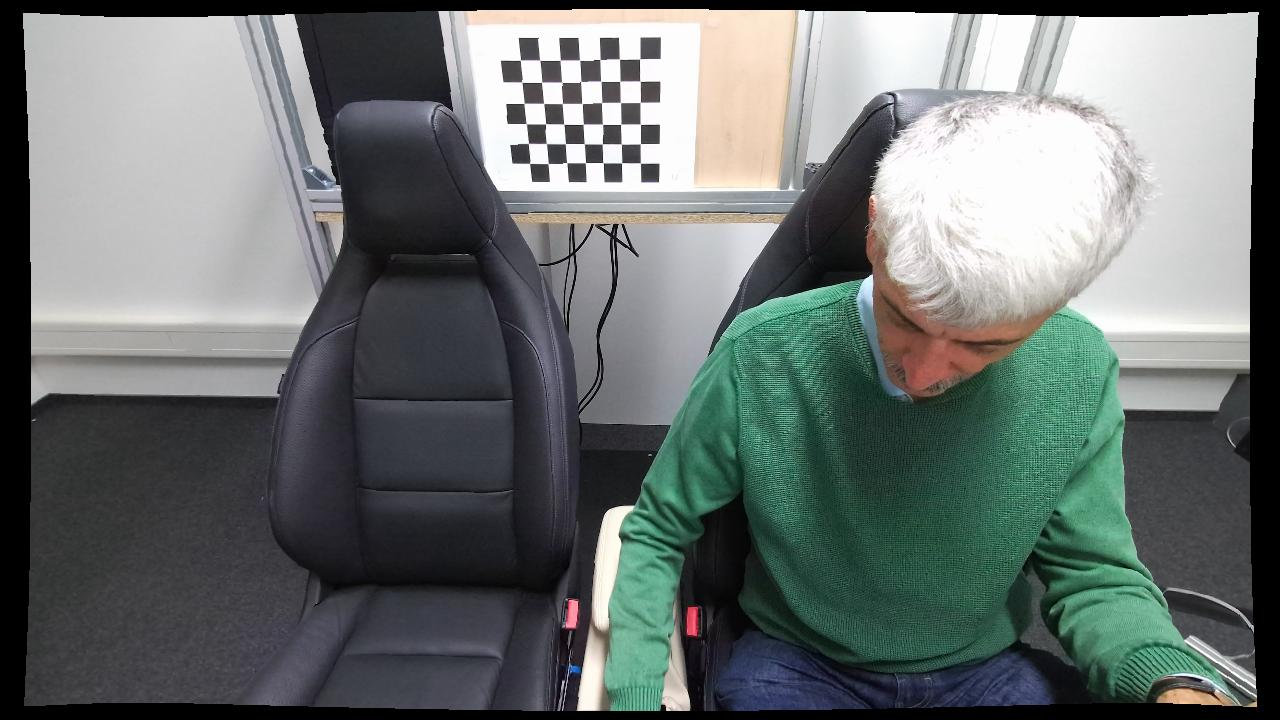Distracted: (606, 82, 1176, 713)
